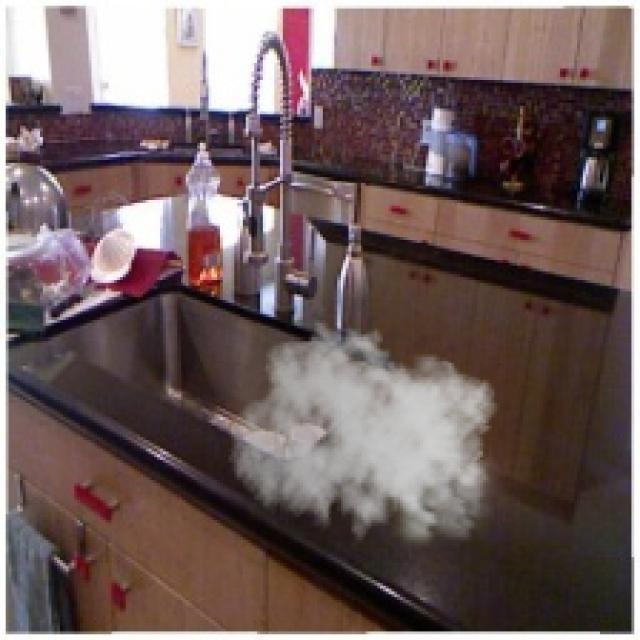Smoke: (228, 320, 506, 557)
